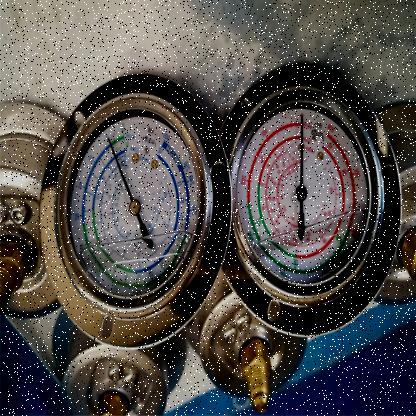needle: (107, 136, 135, 203), (300, 114, 304, 186)
